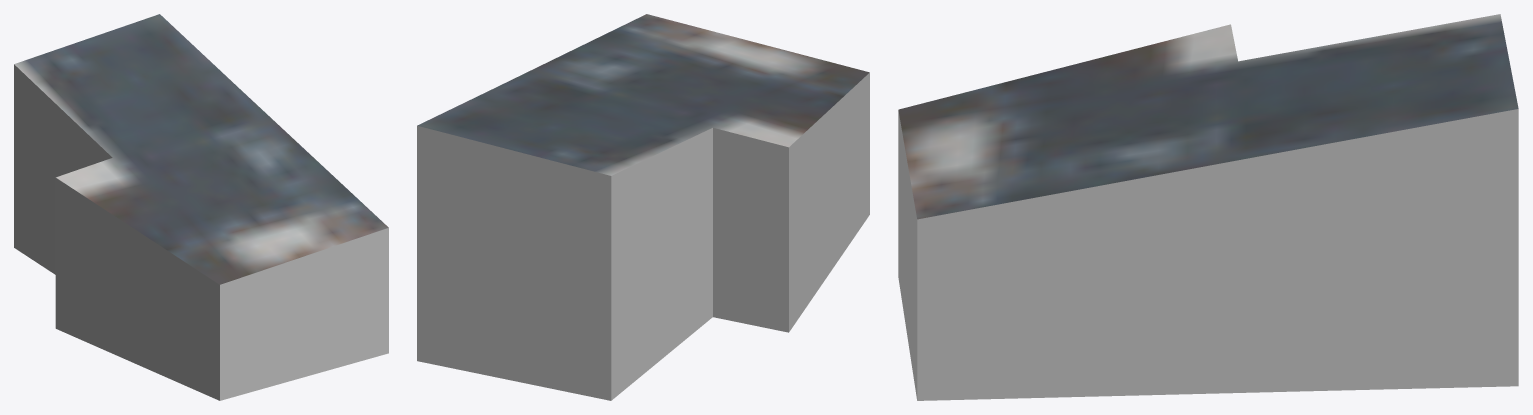
The model's file is DEBW_0010007Tx9w.gltf.
3 views of the same model, side by side, from view 1: azimuth 30°, elevation 25°; view 2: azimuth 150°, elevation 25°; view 3: azimuth 270°, elevation 25° (orthographic). The views are drawn at different scales.
Visible parts, largest first — view 1: Z_UP; view 2: Z_UP; view 3: Z_UP.
Part boxes in pixels (x1,y1,x2,y2): Z_UP: (14,14,388,400); Z_UP: (417,14,869,400); Z_UP: (898,14,1518,400).
Size of the model in its own units: 5.17 by 4.22 by 8.56.
Materials: 2 (1 with a texture image).
